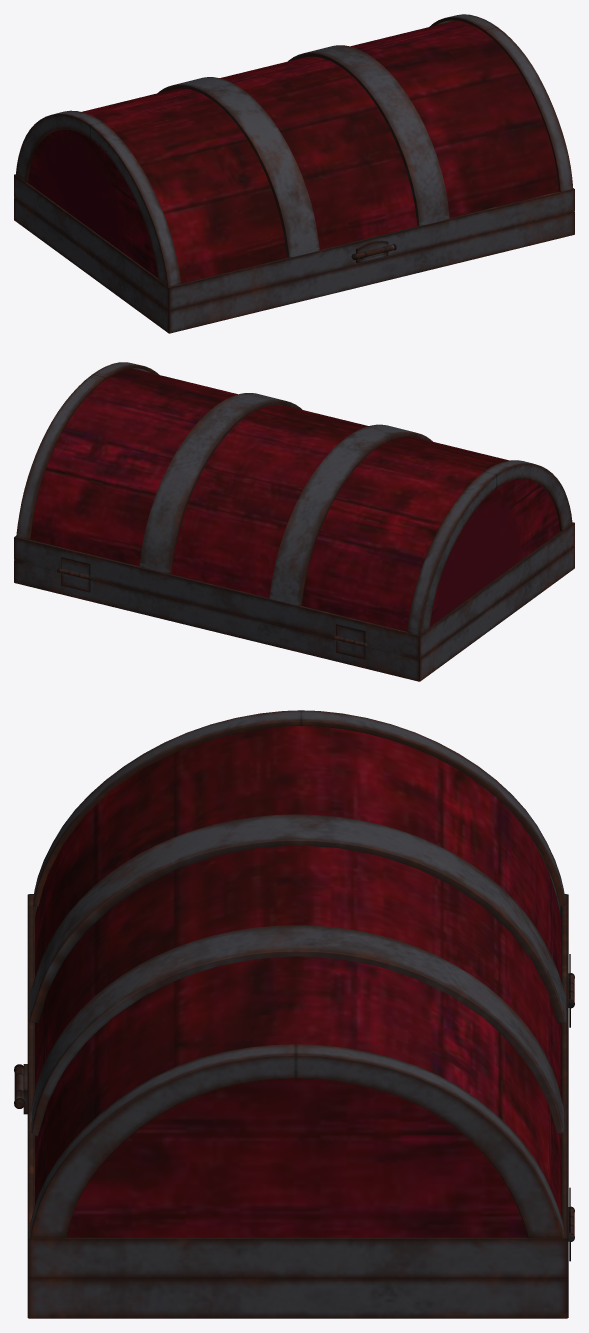
File: treasure-chest-cutted_2.glb
3 renders of one model, top to bottom at view 1: azimuth 30°, elevation 25°; view 2: azimuth 150°, elevation 25°; view 3: azimuth 270°, elevation 25°, orthographic. The views are drawn at different scales.
Visible parts, largest first — view 1: Chest6, Chest14, Chest13, Chest16, Chest11, Chest5, Chest17; view 2: Chest6, Chest14, Chest13, Chest16, Chest11, Chest5, Chest17; view 3: Chest6, Chest14, Chest17, Chest13, Chest16, Chest11, Chest5.
Boxes of the visible parts, x1=… form: Chest6: x1=28, y1=20, x2=558, y2=283; Chest14: x1=14, y1=174, x2=574, y2=310; Chest13: x1=14, y1=197, x2=574, y2=333; Chest16: x1=157, y1=77, x2=319, y2=257; Chest11: x1=288, y1=45, x2=449, y2=225; Chest5: x1=16, y1=110, x2=180, y2=286; Chest17: x1=429, y1=14, x2=573, y2=191; Chest6: x1=30, y1=368, x2=560, y2=631; Chest14: x1=14, y1=522, x2=574, y2=658; Chest13: x1=14, y1=545, x2=574, y2=681; Chest16: x1=269, y1=424, x2=432, y2=606; Chest11: x1=139, y1=393, x2=302, y2=573; Chest5: x1=407, y1=460, x2=572, y2=635; Chest17: x1=16, y1=362, x2=159, y2=539; Chest6: x1=35, y1=726, x2=561, y2=1237; Chest14: x1=27, y1=894, x2=568, y2=1278; Chest17: x1=29, y1=1044, x2=564, y2=1238; Chest13: x1=27, y1=1278, x2=568, y2=1318; Chest16: x1=29, y1=814, x2=566, y2=1023; Chest11: x1=31, y1=925, x2=564, y2=1136; Chest5: x1=33, y1=710, x2=565, y2=906.
Bounding box in the file's own units: 30.53 × 10.89 × 20.96.
Materials: 2 (2 with a texture image).
